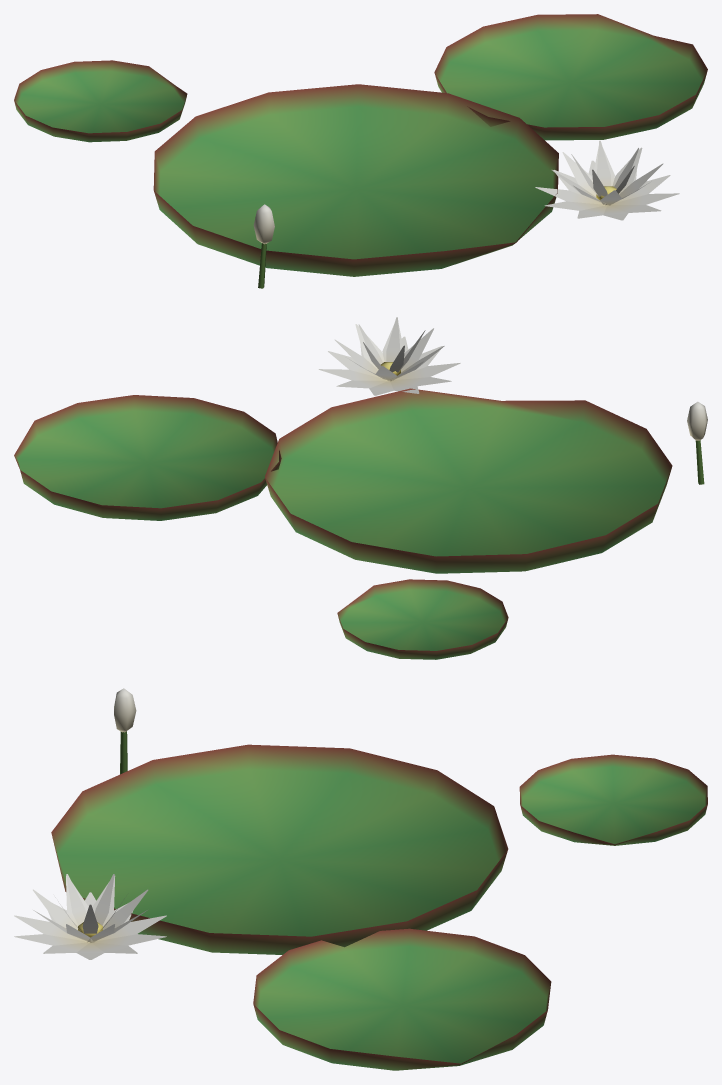
The model's file is rimlily.glb.
3 views of the same model, one above another, from view 1: azimuth 30°, elevation 25°; view 2: azimuth 150°, elevation 25°; view 3: azimuth 270°, elevation 25° (orthographic). The views are drawn at different scales.
Visible parts, largest first — view 1: rimlily; view 2: rimlily; view 3: rimlily.
Boxes of the visible parts, x1=… form: rimlily: x1=14, y1=14, x2=707, y2=288; rimlily: x1=14, y1=317, x2=707, y2=659; rimlily: x1=14, y1=688, x2=707, y2=1070.
Size of the model in its own units: 3.26 by 0.4534 by 3.12.
